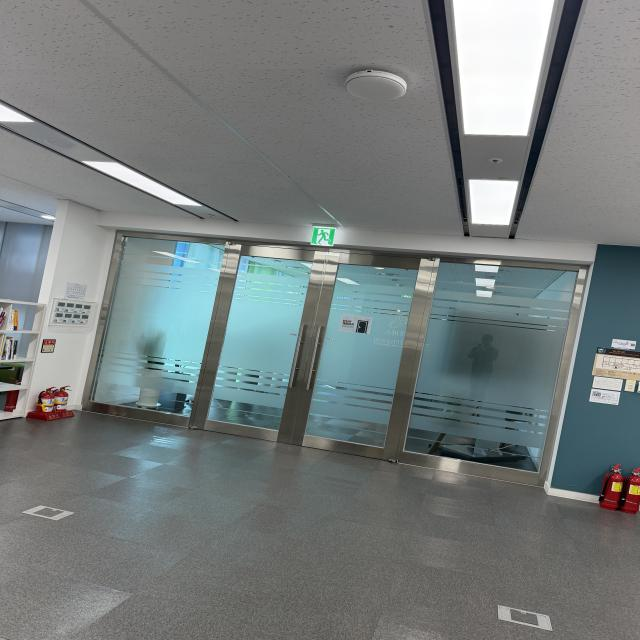front_door: (83, 230, 595, 489)
